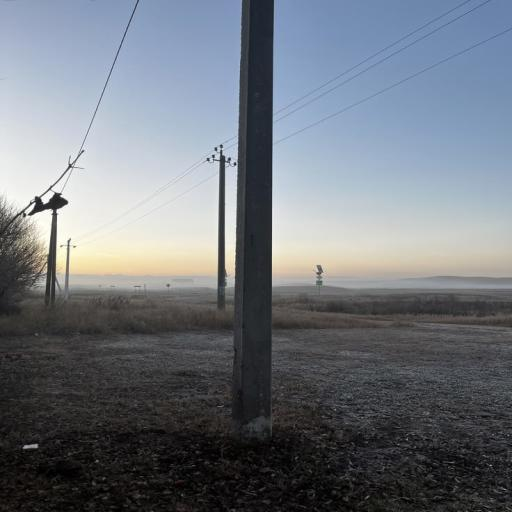phone: (234, 0, 274, 442), (45, 210, 57, 308), (218, 147, 225, 309), (61, 239, 75, 300)
